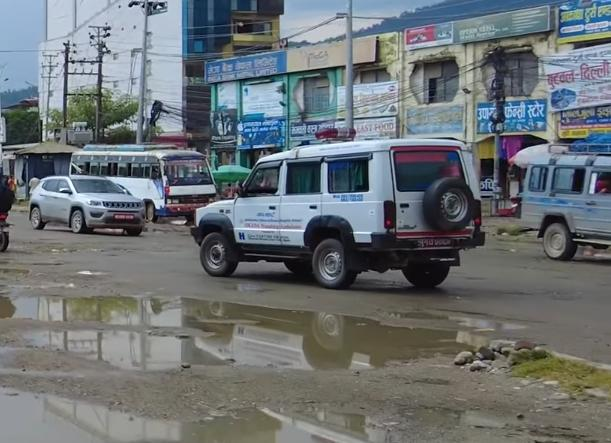ambulance: (191, 122, 487, 296)
bus: (67, 143, 216, 227)
car: (26, 173, 146, 244)
